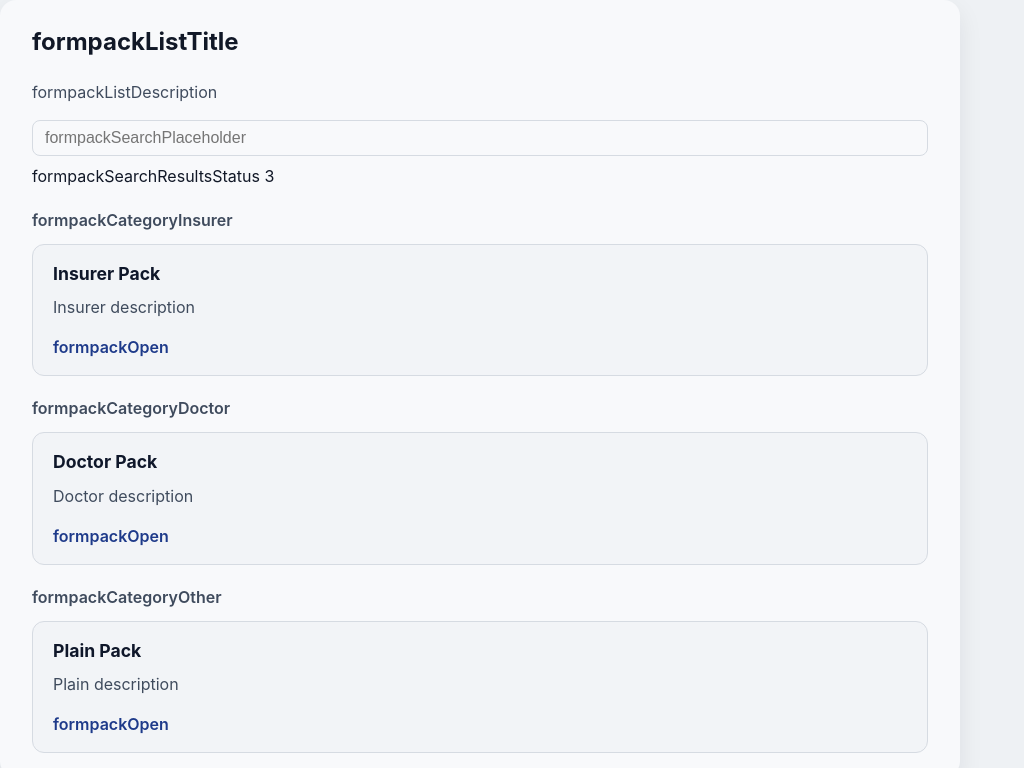
Test: FormpackListPage › filters formpacks by search query
Type "kasse" into the search field with placeholder "formpackSearchPlaceholder". click: (480, 138)
box: [32,120,928,156]
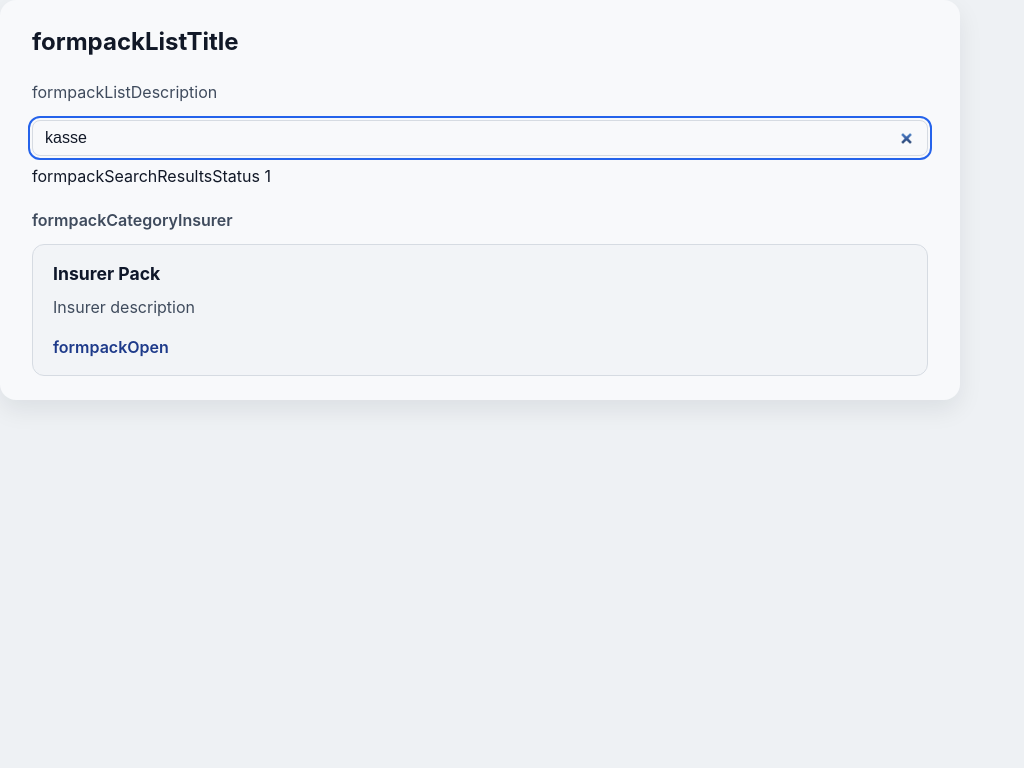
Expected: the link "Doctor Pack" is gone
Expected: the link "Plain Pack" is gone
Expected: the text "formpackSearchResultsStatus 1" is shown, [32,166,271,186]
